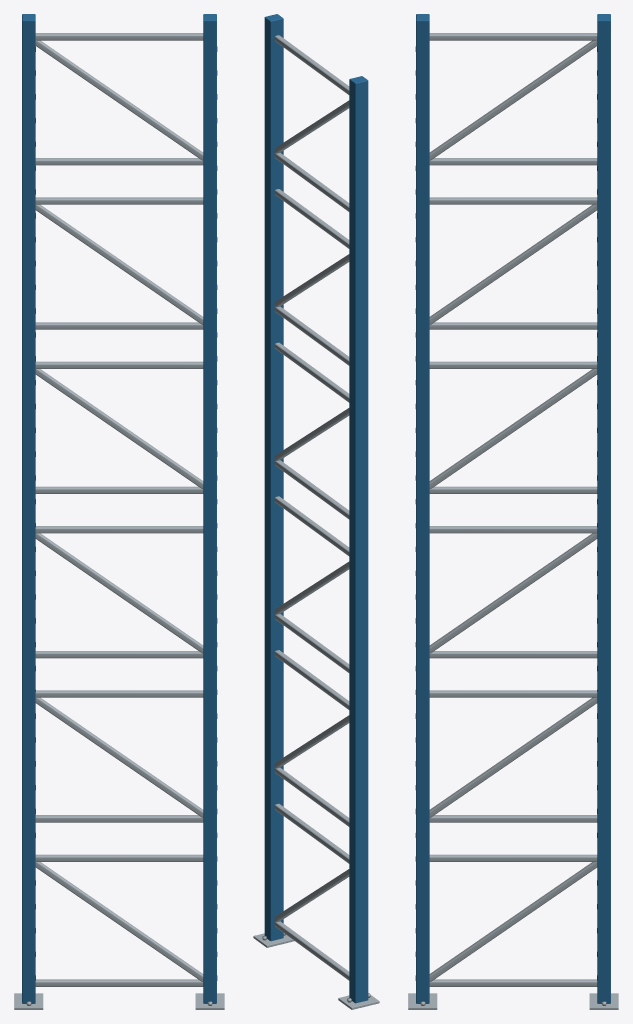
Rendered from rack-frame.glb.
3 renders of one model, left to right at view 1: azimuth 90°, elevation 25°; view 2: azimuth 210°, elevation 25°; view 3: azimuth 270°, elevation 25°, orthographic. The views are drawn at different scales.
Visible parts, largest first — view 1: Folded_upright, Folded_upright.001, Diagonal.001, Diagonal.004, Diagonal.005, Diagonal.002, Diagonal, Diagonal.003, Cross_tie.009, Cross_tie.011, Cross_tie.001, Cross_tie.007 (+8 smaller); view 2: Folded_upright.001, Folded_upright, Cross_tie.007, Cross_tie.005, Cross_tie.011, Cross_tie.001, Cross_tie.009, Cross_tie.003, Cross_tie.010, Cross_tie.004, Cross_tie, Cross_tie.002 (+8 smaller); view 3: Folded_upright, Folded_upright.001, Diagonal.001, Diagonal.004, Diagonal.005, Diagonal.002, Diagonal, Diagonal.003, Cross_tie.009, Cross_tie.011, Cross_tie.001, Cross_tie.007 (+8 smaller).
Boxes of the visible parts, <box> form: Folded_upright: <box>203,14,216,1003</box>; Folded_upright.001: <box>22,14,35,1003</box>; Diagonal.001: <box>35,697,203,817</box>; Diagonal.004: <box>35,204,203,324</box>; Diagonal.005: <box>35,40,203,160</box>; Diagonal.002: <box>35,533,203,653</box>; Diagonal: <box>35,862,203,981</box>; Diagonal.003: <box>35,369,203,488</box>; Cross_tie.009: <box>35,197,203,204</box>; Cross_tie.011: <box>35,33,203,40</box>; Cross_tie.001: <box>35,854,203,861</box>; Cross_tie.007: <box>35,361,203,368</box>; Folded_upright.001: <box>349,76,368,1003</box>; Folded_upright: <box>264,14,283,941</box>; Cross_tie.007: <box>274,342,349,402</box>; Cross_tie.005: <box>274,496,349,556</box>; Cross_tie.011: <box>274,35,349,94</box>; Cross_tie.001: <box>274,803,349,863</box>; Cross_tie.009: <box>274,189,349,248</box>; Cross_tie.003: <box>274,650,349,709</box>; Cross_tie.010: <box>274,152,349,211</box>; Cross_tie.004: <box>274,614,349,672</box>; Cross_tie: <box>274,921,349,980</box>; Cross_tie.002: <box>274,767,349,826</box>; Folded_upright: <box>416,14,429,1003</box>; Folded_upright.001: <box>597,14,610,1003</box>; Diagonal.001: <box>429,697,597,817</box>; Diagonal.004: <box>429,204,597,324</box>; Diagonal.005: <box>429,40,597,160</box>; Diagonal.002: <box>429,533,597,653</box>; Diagonal: <box>429,862,597,981</box>; Diagonal.003: <box>429,369,597,488</box>; Cross_tie.009: <box>429,197,597,204</box>; Cross_tie.011: <box>429,33,597,40</box>; Cross_tie.001: <box>429,854,597,861</box>; Cross_tie.007: <box>429,361,597,368</box>.
Size of the model in its own units: 0.19 by 6 by 1.16.
